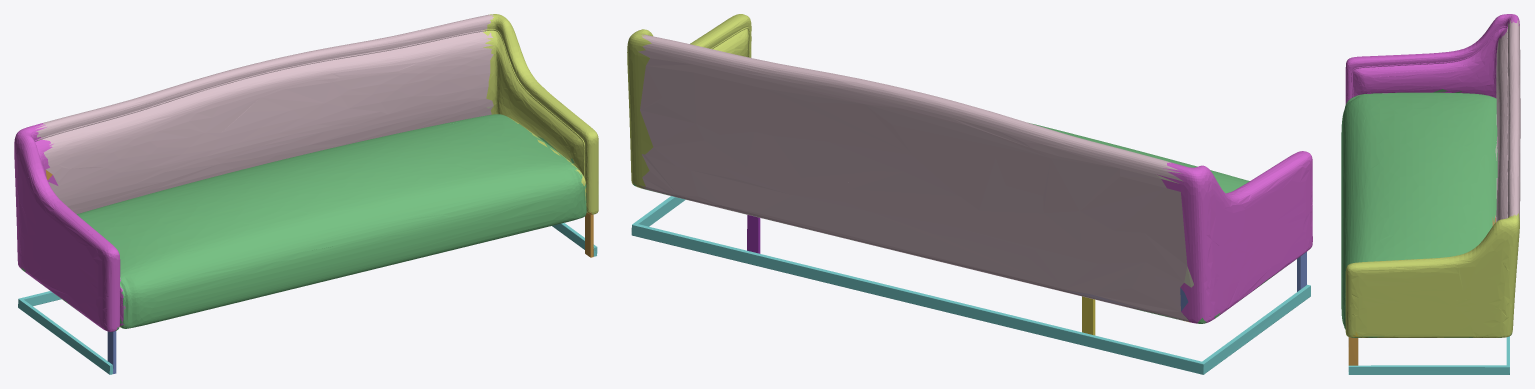
3 renders of one model, left to right at view 1: azimuth 30°, elevation 25°; view 2: azimuth 150°, elevation 25°; view 3: azimuth 270°, elevation 25°, orthographic. The views are drawn at different scales.
Parts seen in each view (by area): view 1: world; view 2: world; view 3: world.
Part boxes in pixels (bbox=[...]): world: bbox=[14, 14, 598, 374]; world: bbox=[627, 14, 1312, 374]; world: bbox=[1341, 14, 1520, 374].
Size of the model in its own units: 2.85 by 1.01 by 1.02.
